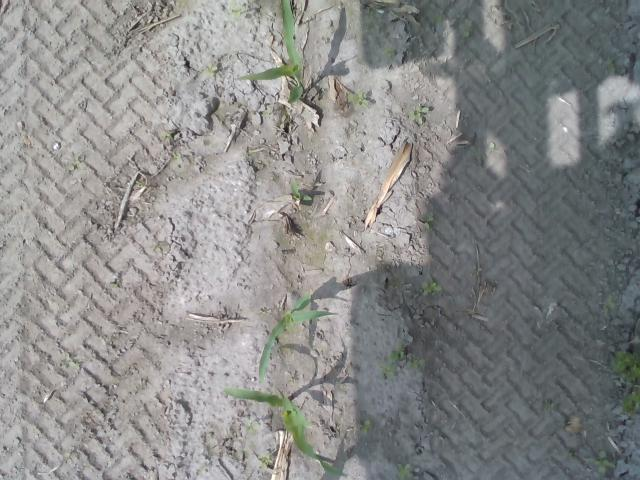Maize: (222, 386, 346, 478), (236, 0, 306, 104), (257, 294, 337, 384), (288, 180, 314, 203)
Weeds: (376, 344, 409, 376), (612, 350, 640, 386), (622, 390, 640, 418), (347, 90, 368, 107), (592, 458, 614, 474), (408, 106, 429, 122), (422, 280, 440, 298), (395, 464, 413, 480), (406, 357, 426, 370), (257, 454, 272, 468), (204, 61, 216, 76), (359, 419, 371, 434), (383, 46, 397, 58), (160, 132, 170, 140)
